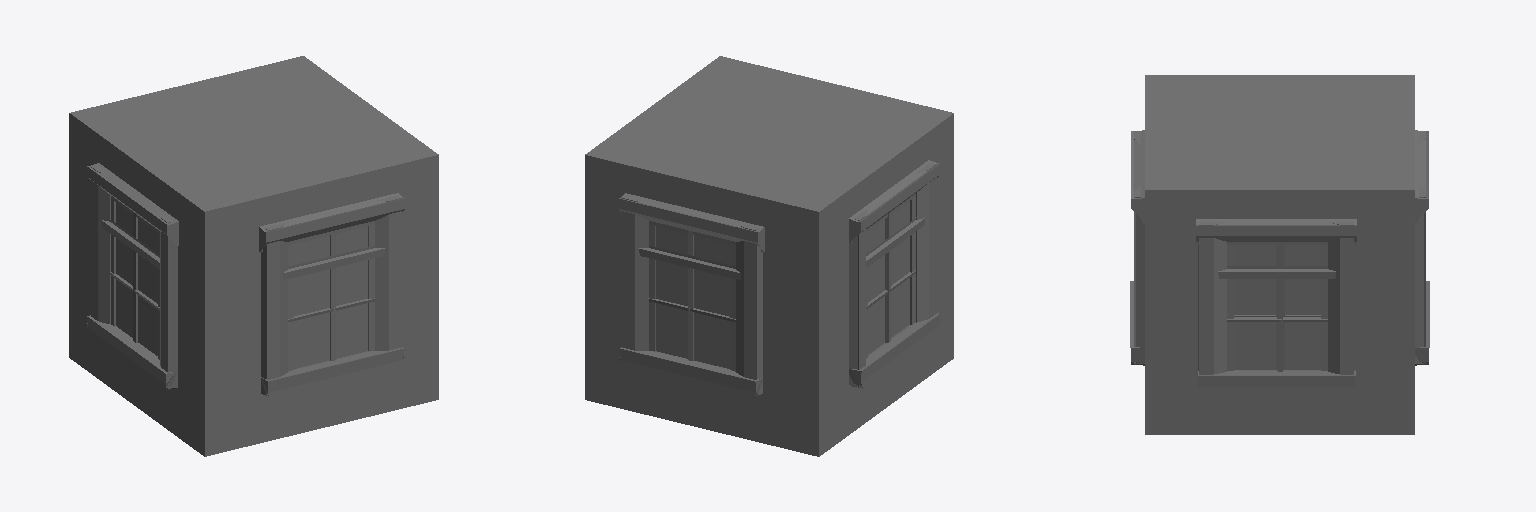
File: window.obj
3 renders of one model, left to right at view 1: azimuth 30°, elevation 25°; view 2: azimuth 150°, elevation 25°; view 3: azimuth 270°, elevation 25°, orthographic.
Parts seen in each view (by area): view 1: window1:polySurface1712; view 2: window1:polySurface1712; view 3: window1:polySurface1712.
Boxes of the visible parts, box(x1,y1,x2,y2) form: window1:polySurface1712: box(69, 56, 438, 456); window1:polySurface1712: box(585, 56, 953, 456); window1:polySurface1712: box(1130, 75, 1429, 434).
Bounding box in the file's own units: 1.12 × 1 × 1.11.